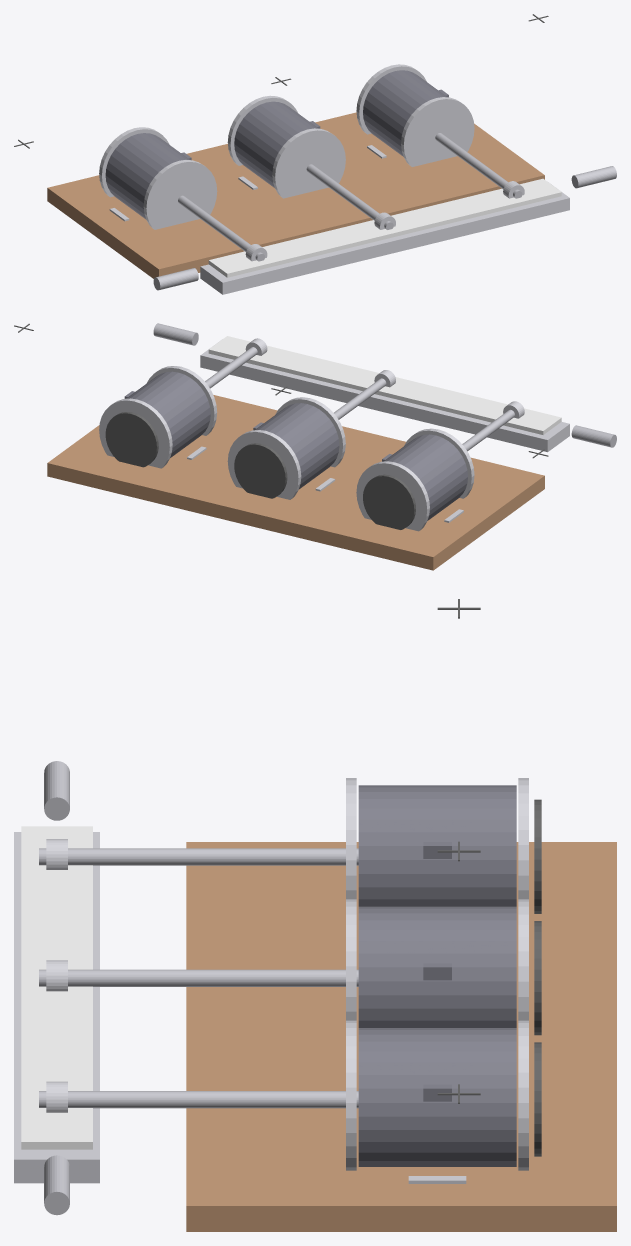
3 views of the same model, one above another, from view 1: azimuth 30°, elevation 25°; view 2: azimuth 150°, elevation 25°; view 3: azimuth 270°, elevation 25° (orthographic). The views are drawn at different scales.
Visible parts, largest first — view 1: Wooden_Base, Main_Conveyor_Belt, Conveyor_Frame, Motor_Rear_Flange_1, Motor_Rear_Flange_2, Motor_Rear_Flange_0, Motor_Housing_1, Motor_Housing_2, Motor_Housing_0, Motor_Shaft_1, Motor_Shaft_2, Motor_Shaft_0 (+5 smaller); view 2: Wooden_Base, Main_Conveyor_Belt, Conveyor_Frame, Motor_Housing_0, Motor_Housing_2, Motor_Housing_1, Motor_Fan_Base_1, Motor_Fan_Base_2, Motor_Fan_Base_0, Motor_Front_Flange_2, Motor_Front_Flange_1, Motor_Front_Flange_0 (+8 smaller); view 3: Wooden_Base, Motor_Housing_2, Main_Conveyor_Belt, Motor_Housing_1, Motor_Housing_0, Conveyor_Frame, Motor_Shaft_1, Motor_Shaft_0, Motor_Shaft_2, Motor_Front_Flange_2, Motor_Rear_Flange_2, End_Roller_1 (+8 smaller).
Part boxes in pixels (box(x1,y1,x2,y2)): Wooden_Base: box(47, 112, 544, 278); Main_Conveyor_Belt: box(208, 178, 561, 277); Conveyor_Frame: box(200, 182, 569, 294); Motor_Rear_Flange_1: box(272, 128, 345, 198); Motor_Rear_Flange_2: box(401, 97, 474, 166); Motor_Rear_Flange_0: box(143, 160, 217, 229); Motor_Housing_1: box(234, 101, 318, 187); Motor_Housing_2: box(363, 70, 447, 156); Motor_Housing_0: box(105, 133, 189, 219); Motor_Shaft_1: box(306, 164, 395, 229); Motor_Shaft_2: box(435, 133, 524, 198); Motor_Shaft_0: box(178, 195, 267, 261); Wooden_Base: box(47, 395, 544, 570); Main_Conveyor_Belt: box(208, 336, 561, 434); Conveyor_Frame: box(200, 339, 569, 452); Motor_Housing_0: box(383, 434, 467, 520); Motor_Housing_2: box(126, 371, 210, 457); Motor_Housing_1: box(255, 403, 339, 489); Motor_Fan_Base_1: box(234, 443, 287, 498); Motor_Fan_Base_2: box(105, 412, 158, 467); Motor_Fan_Base_0: box(363, 474, 415, 529); Motor_Front_Flange_2: box(99, 398, 172, 468); Motor_Front_Flange_1: box(227, 430, 301, 499); Motor_Front_Flange_0: box(356, 461, 429, 531); Wooden_Base: box(186, 842, 616, 1231); Motor_Housing_2: box(358, 1028, 516, 1166); Main_Conveyor_Belt: box(21, 826, 92, 1149); Motor_Housing_1: box(358, 906, 516, 1027); Motor_Housing_0: box(358, 785, 516, 906); Conveyor_Frame: box(14, 832, 99, 1183); Motor_Shaft_1: box(39, 960, 358, 991); Motor_Shaft_0: box(39, 839, 358, 869); Motor_Shaft_2: box(39, 1081, 358, 1112); Motor_Front_Flange_2: box(518, 1020, 528, 1170); Motor_Rear_Flange_2: box(346, 1020, 356, 1170); End_Roller_1: box(44, 1155, 69, 1215).
Size of the model in its own units: 16.6 by 3.06 by 8.4.
